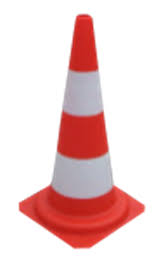cones: (18, 14, 150, 248)
